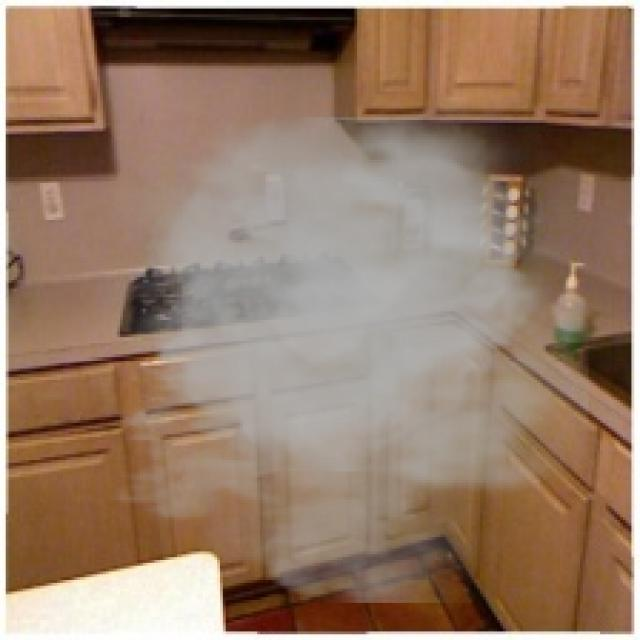smoke: (63, 86, 588, 603)
